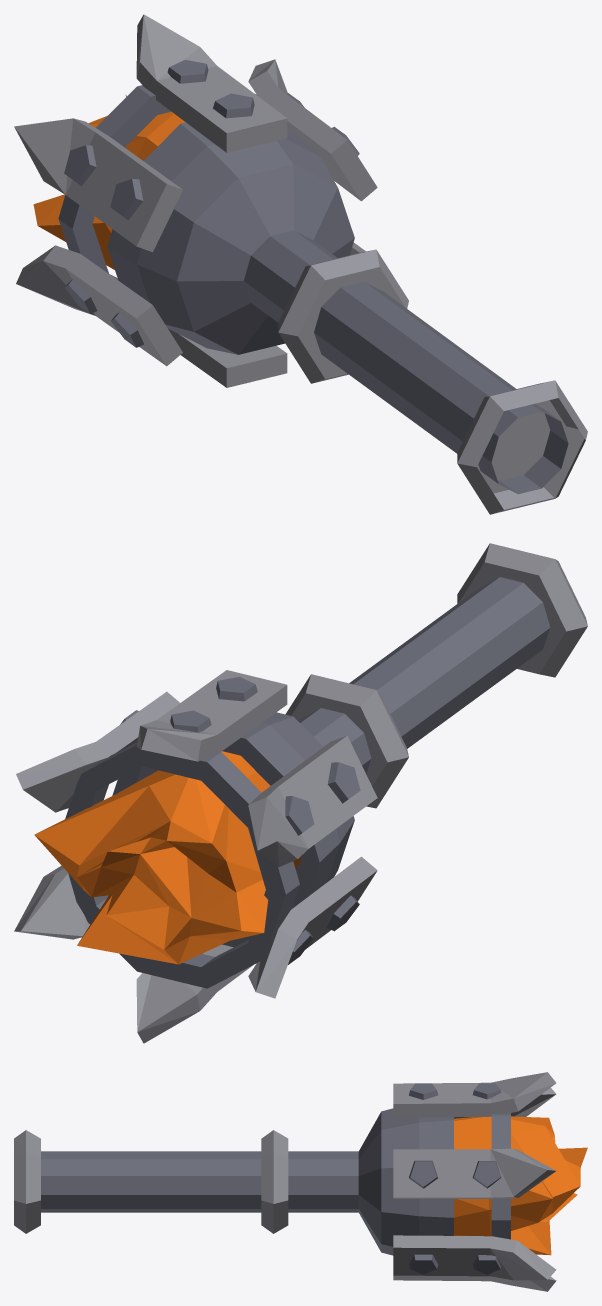
Rendered from torch_2.glb.
3 renders of one model, top to bottom at view 1: azimuth 30°, elevation 25°; view 2: azimuth 150°, elevation 25°; view 3: azimuth 270°, elevation 25°, orthographic. The views are drawn at different scales.
Parts seen in each view (by area): view 1: torch_2; view 2: torch_2; view 3: torch_2.
Part boxes in pixels (x1,y1,x2,y2): torch_2: (14, 14, 587, 514); torch_2: (14, 543, 587, 1043); torch_2: (14, 1072, 587, 1291).
Bounding box in the file's own units: 0.4763 × 0.546 × 1.3.
Materials: 1 (1 with a texture image).
